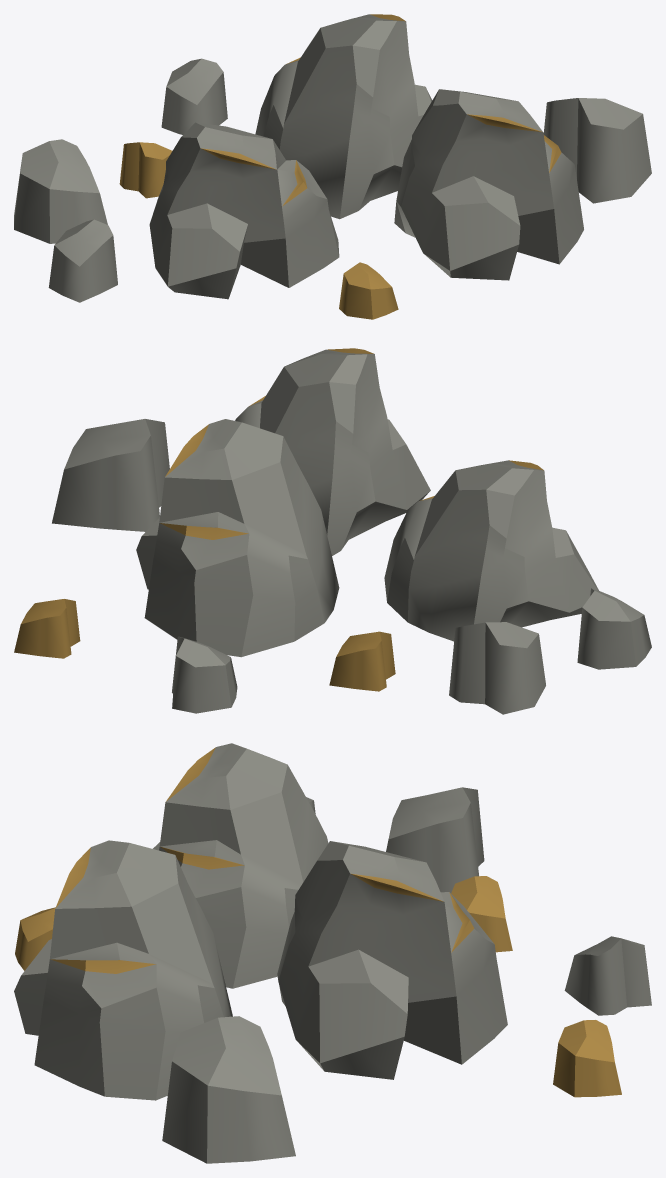
Rendered from gold_rocks.glb.
The picture shows the model from 3 angles, top to bottom: view 1: azimuth 30°, elevation 25°; view 2: azimuth 150°, elevation 25°; view 3: azimuth 270°, elevation 25°; orthographic projection. The views are drawn at different scales.
Visible parts, largest first — view 1: Resource_Gold_3; view 2: Resource_Gold_3; view 3: Resource_Gold_3.
Part boxes in pixels (<box>): Resource_Gold_3: <box>14,14,651,319</box>; Resource_Gold_3: <box>14,348,651,714</box>; Resource_Gold_3: <box>14,743,651,1163</box>.
Bounding box in the file's own units: 0.5907 × 0.1634 × 0.4837.
